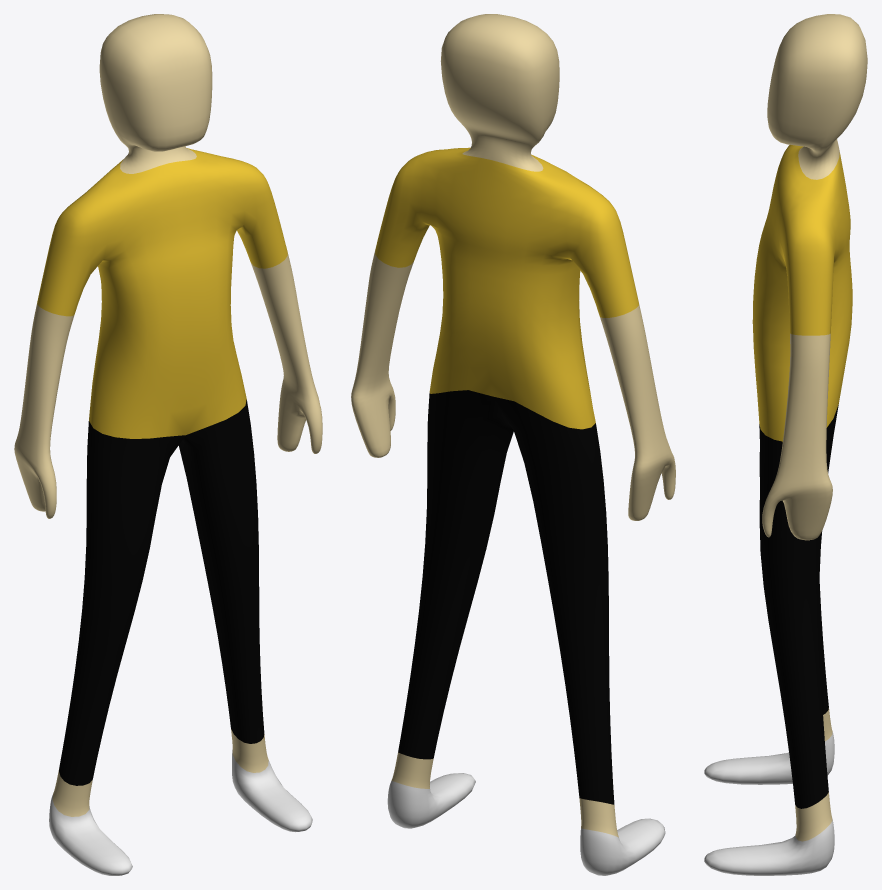
Rendered from character.glb.
3 views of the same model, side by side, from view 1: azimuth 30°, elevation 25°; view 2: azimuth 150°, elevation 25°; view 3: azimuth 270°, elevation 25° (orthographic). The views are drawn at different scales.
Visible parts, largest first — view 1: Cube; view 2: Cube; view 3: Cube.
Boxes of the visible parts, bbox=[...] form: Cube: bbox=[14, 14, 322, 875]; Cube: bbox=[351, 14, 675, 875]; Cube: bbox=[704, 14, 867, 875].
Size of the model in its own units: 3.75 by 9.94 by 1.83.
